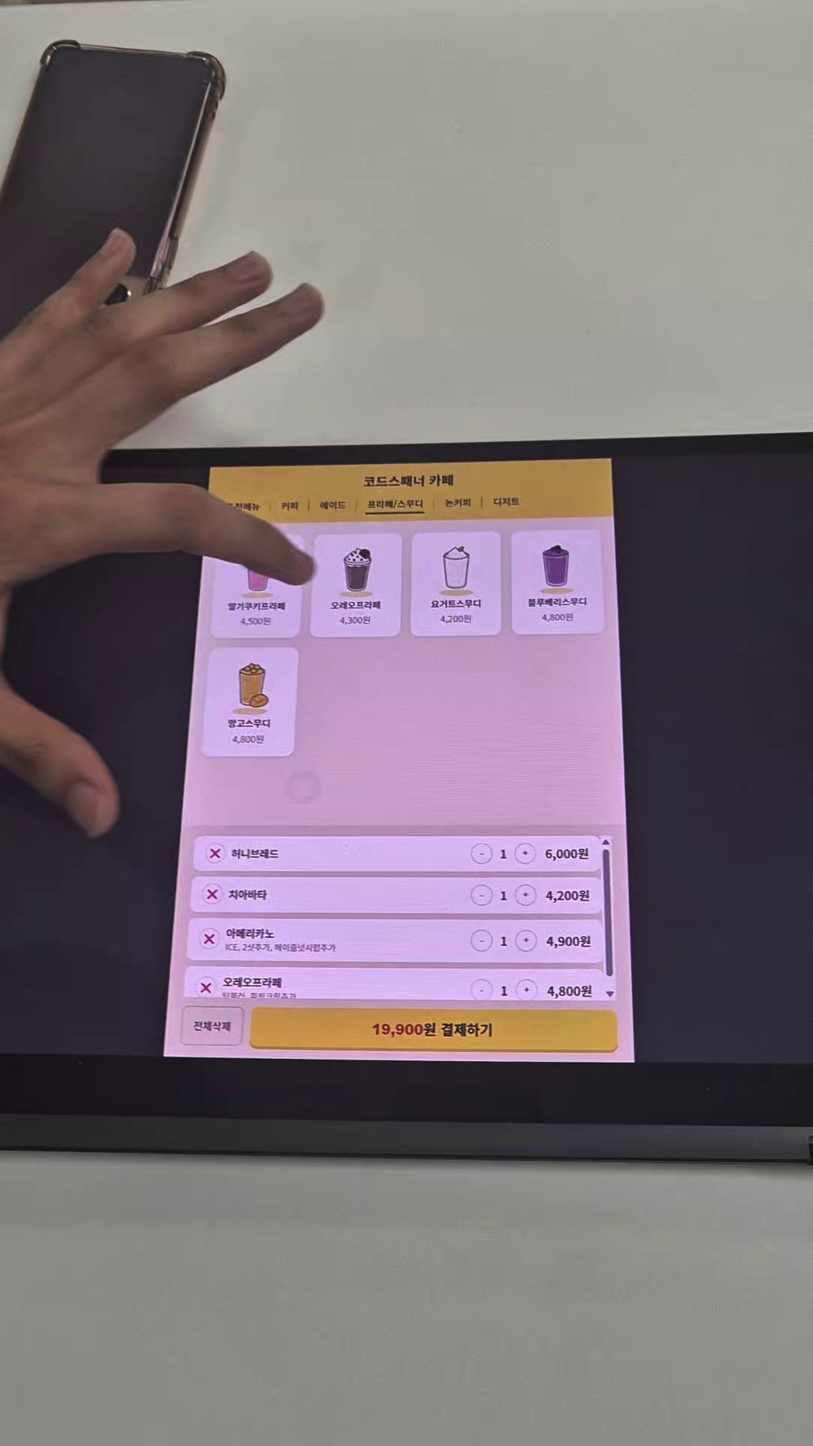action_button: (249, 1008, 617, 1052), (179, 1006, 243, 1045)
cart_item: (186, 917, 602, 963), (184, 966, 603, 1004), (190, 876, 601, 914), (195, 835, 599, 872)
category_tab: (366, 498, 425, 511), (441, 496, 473, 510), (491, 496, 521, 507), (318, 500, 347, 510), (278, 501, 301, 513)
menu_back: (203, 647, 297, 757), (210, 534, 303, 638), (310, 533, 402, 638), (410, 533, 502, 637), (512, 530, 603, 634)
menu_name: (221, 974, 283, 988), (231, 846, 280, 863), (526, 596, 588, 609), (329, 599, 382, 613), (227, 601, 287, 613), (224, 927, 274, 940), (429, 598, 483, 610), (227, 888, 269, 902), (227, 717, 272, 730)
menu_price: (543, 934, 592, 949), (547, 984, 595, 999), (542, 847, 591, 861), (545, 889, 594, 903), (238, 615, 271, 626), (340, 615, 373, 626), (439, 614, 472, 625), (541, 613, 574, 623), (232, 734, 265, 744)
